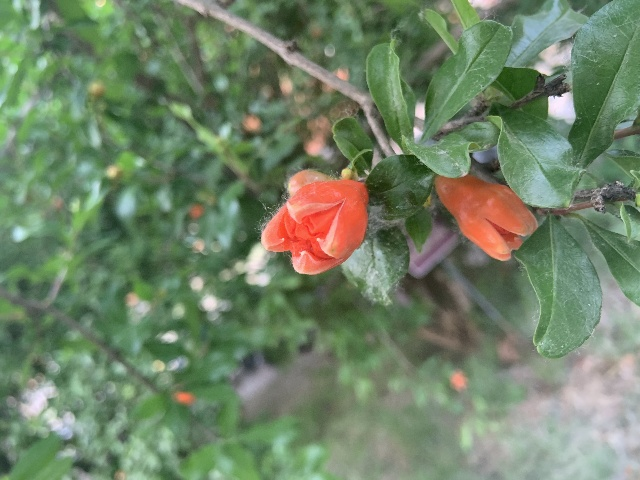bud: (288, 170, 331, 198)
flower: (260, 178, 369, 273), (435, 173, 537, 260)
